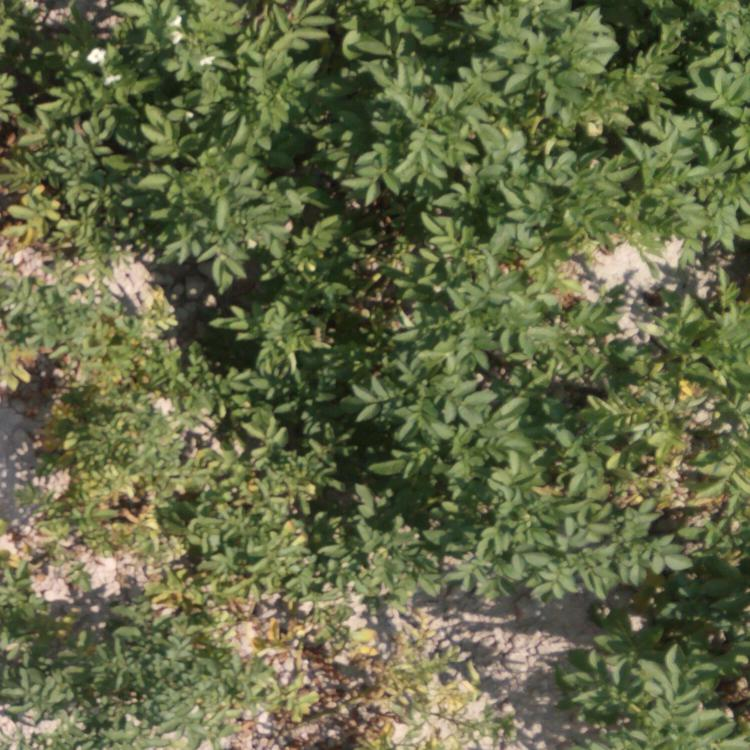healthy: (372, 310, 750, 576), (357, 1, 741, 248), (1, 1, 353, 173), (193, 187, 360, 408), (571, 592, 750, 750), (356, 261, 568, 299), (126, 178, 183, 262)
stressed: (4, 597, 252, 749), (173, 417, 365, 591), (270, 605, 474, 750), (1, 265, 190, 408), (22, 408, 171, 574), (1, 180, 114, 267)
